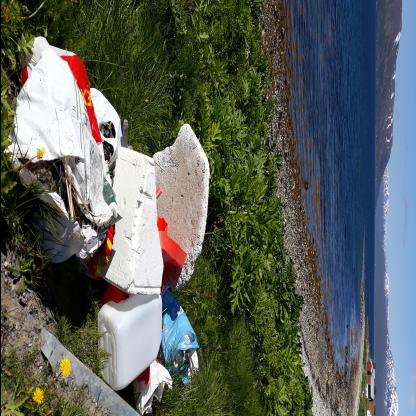kopuk: (148, 252, 296, 316)
plastik: (294, 254, 390, 321), (290, 219, 366, 256)
